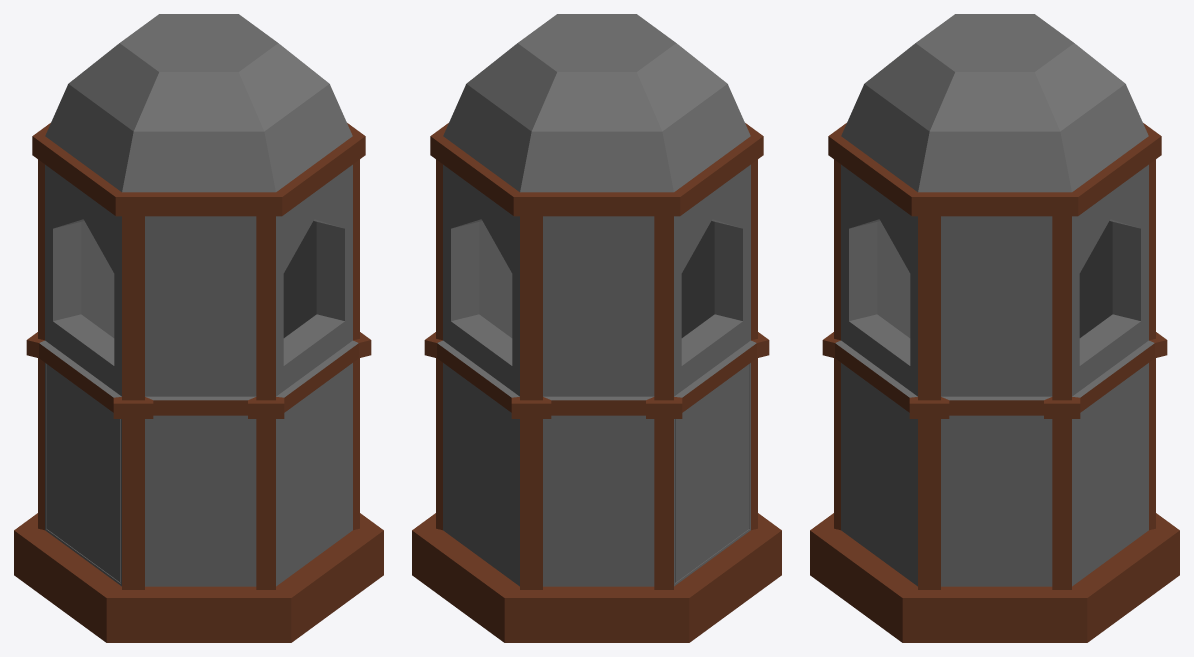
File: Trash Can 2.fbx
The picture shows the model from 3 angles, left to right: view 1: azimuth 30°, elevation 25°; view 2: azimuth 150°, elevation 25°; view 3: azimuth 270°, elevation 25°; orthographic projection.
Visible parts, largest first — view 1: Trash Can 2; view 2: Trash Can 2; view 3: Trash Can 2.
Boxes of the visible parts, box(x1,y1,x2,y2) form: Trash Can 2: box(14, 14, 383, 642); Trash Can 2: box(412, 14, 781, 642); Trash Can 2: box(810, 14, 1179, 642).
Size of the model in its own units: 0.6603 by 0.7625 by 1.21.
